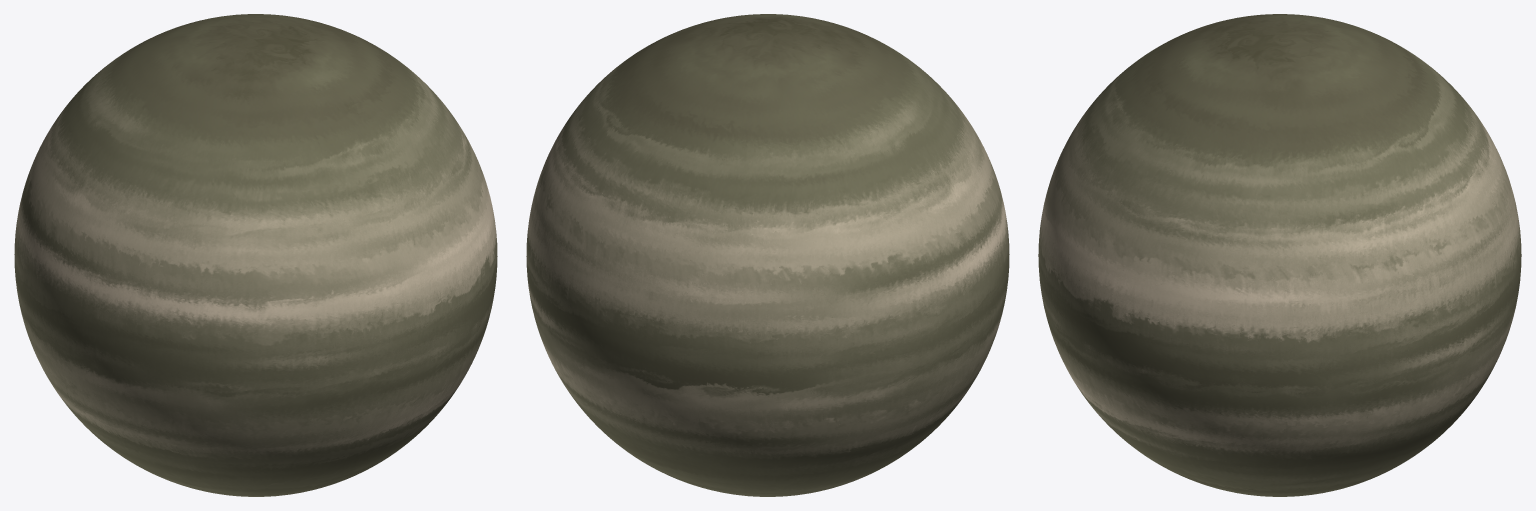
File: wasp39b.glb
3 views of the same model, side by side, from view 1: azimuth 30°, elevation 25°; view 2: azimuth 150°, elevation 25°; view 3: azimuth 270°, elevation 25° (orthographic).
Visible parts, largest first — view 1: Cube; view 2: Cube; view 3: Cube.
Part boxes in pixels (box(x1,y1,x2,y2)): Cube: box(14, 14, 497, 496); Cube: box(526, 14, 1009, 496); Cube: box(1038, 14, 1521, 496).
Size of the model in its own units: 2.56 by 2.56 by 2.56.
1 material, 1 textured.
